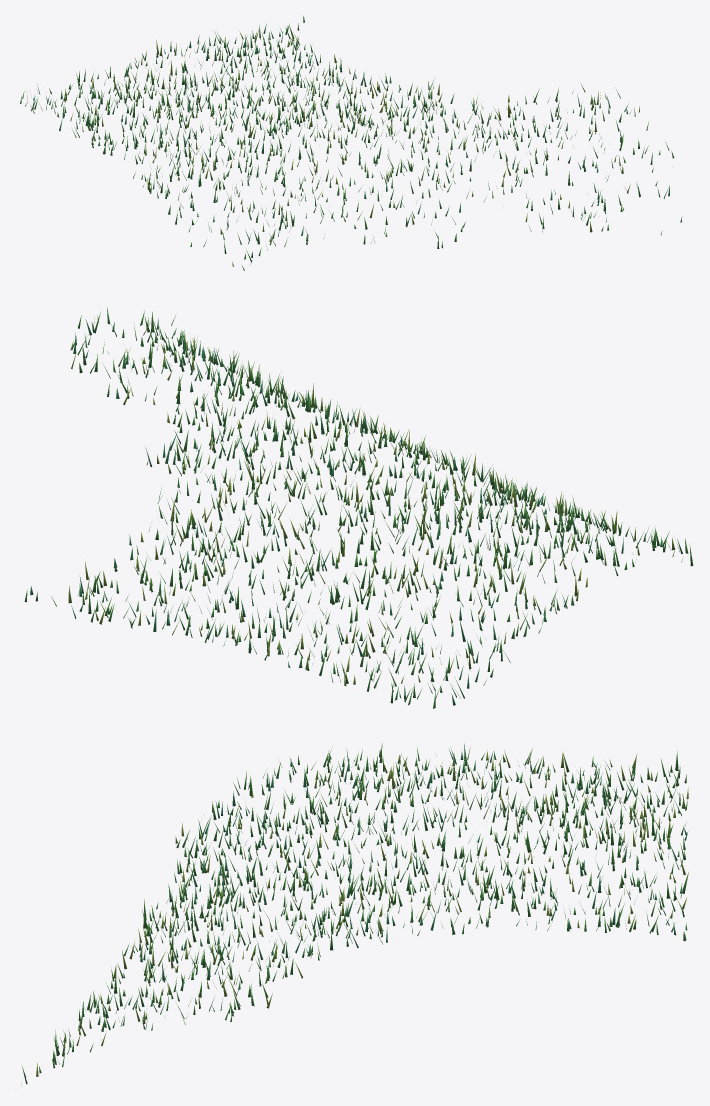
3 renders of one model, top to bottom at view 1: azimuth 30°, elevation 25°; view 2: azimuth 150°, elevation 25°; view 3: azimuth 270°, elevation 25°, orthographic. The views are drawn at different scales.
Visible parts, largest first — view 1: gc_39; view 2: gc_39; view 3: gc_39.
Part boxes in pixels (x1=…): gc_39: x1=20, y1=16, x2=682, y2=270; gc_39: x1=24, y1=307, x2=693, y2=708; gc_39: x1=21, y1=743, x2=688, y2=1085.
Bounding box in the file's own units: 10.6 × 1.92 × 10.66.
1 material, 1 textured.
